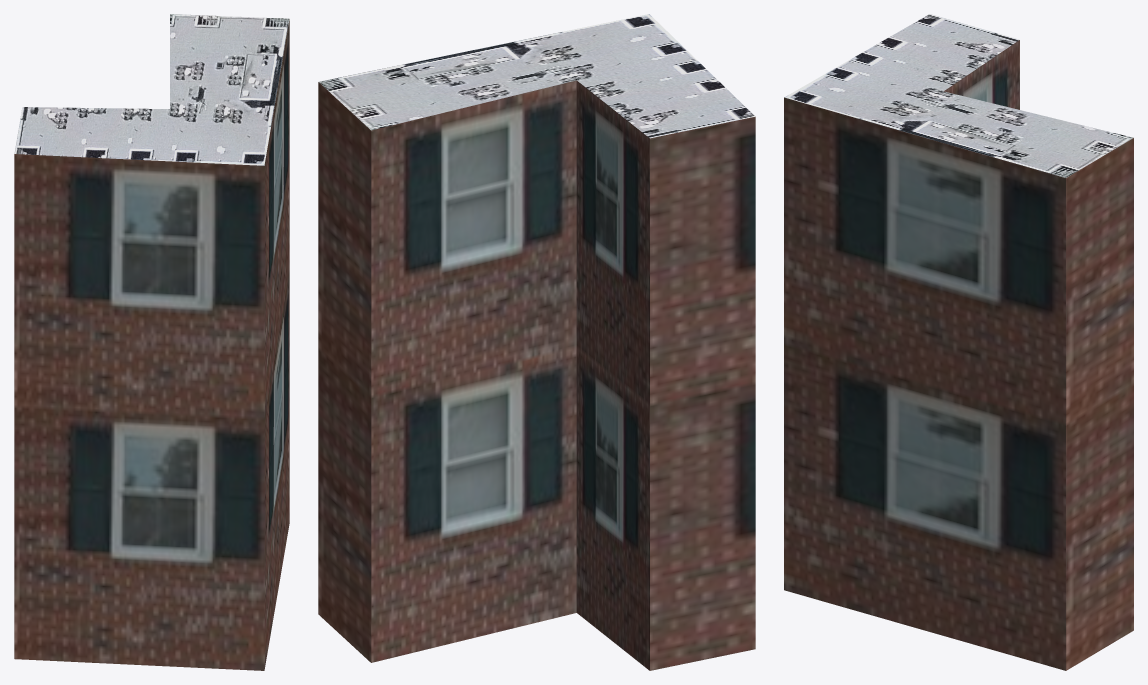
Rendered from ResTex__1843.fbx.
3 renders of one model, left to right at view 1: azimuth 30°, elevation 25°; view 2: azimuth 150°, elevation 25°; view 3: azimuth 270°, elevation 25°, orthographic. The views are drawn at different scales.
Parts seen in each view (by area): view 1: CityEngineMaterial_14_m, CityEngineMaterial_8_m; view 2: CityEngineMaterial_14_m, CityEngineMaterial_8_m; view 3: CityEngineMaterial_14_m, CityEngineMaterial_8_m.
Part boxes in pixels (x1,y1,x2,y2): CityEngineMaterial_14_m: (14,19,289,670); CityEngineMaterial_8_m: (14,14,289,165); CityEngineMaterial_14_m: (318,80,755,670); CityEngineMaterial_8_m: (319,14,754,138); CityEngineMaterial_14_m: (784,40,1133,670); CityEngineMaterial_8_m: (784,14,1133,177).
Bounding box in the file's own units: 4.29 × 6 × 3.86.
Materials: 2 (2 with a texture image).
